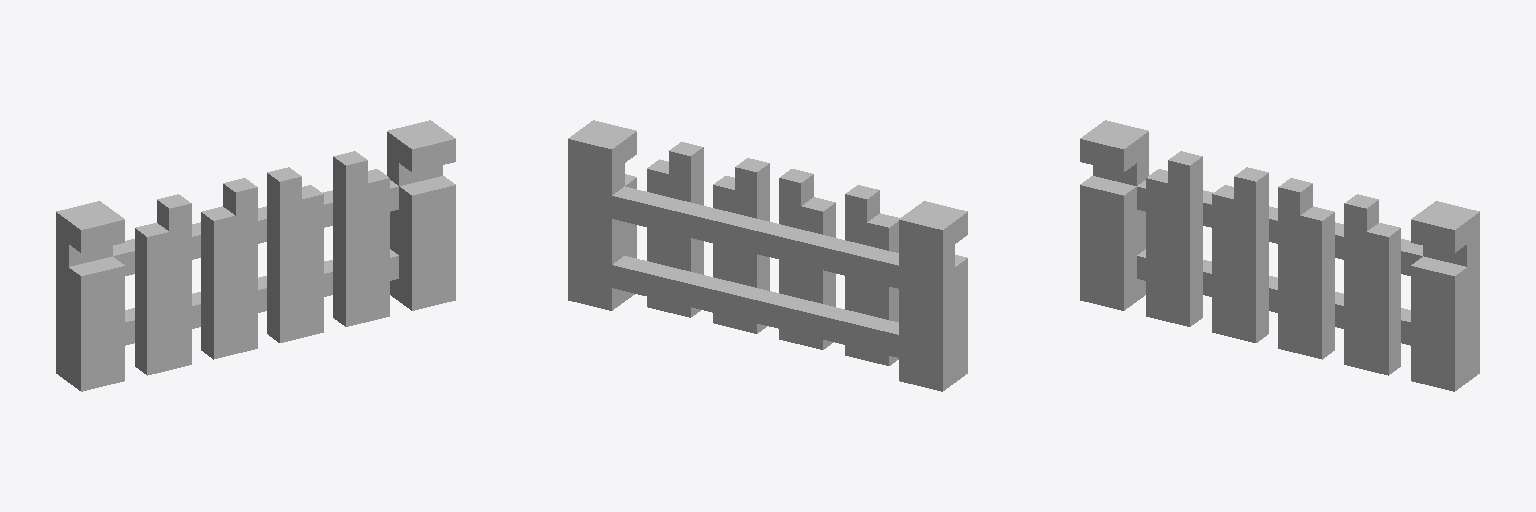
Rendered from Edificio Rojo-1-Vaya.obj.
3 renders of one model, left to right at view 1: azimuth 30°, elevation 25°; view 2: azimuth 150°, elevation 25°; view 3: azimuth 330°, elevation 25°, orthographic.
Parts seen in each view (by area): view 1: Vaya; view 2: Vaya; view 3: Vaya.
Boxes of the visible parts, <box> form: Vaya: <box>56,120,455,391</box>; Vaya: <box>568,120,967,391</box>; Vaya: <box>1080,120,1479,391</box>.
Size of the model in its own units: 1.7 by 0.7 by 0.2.